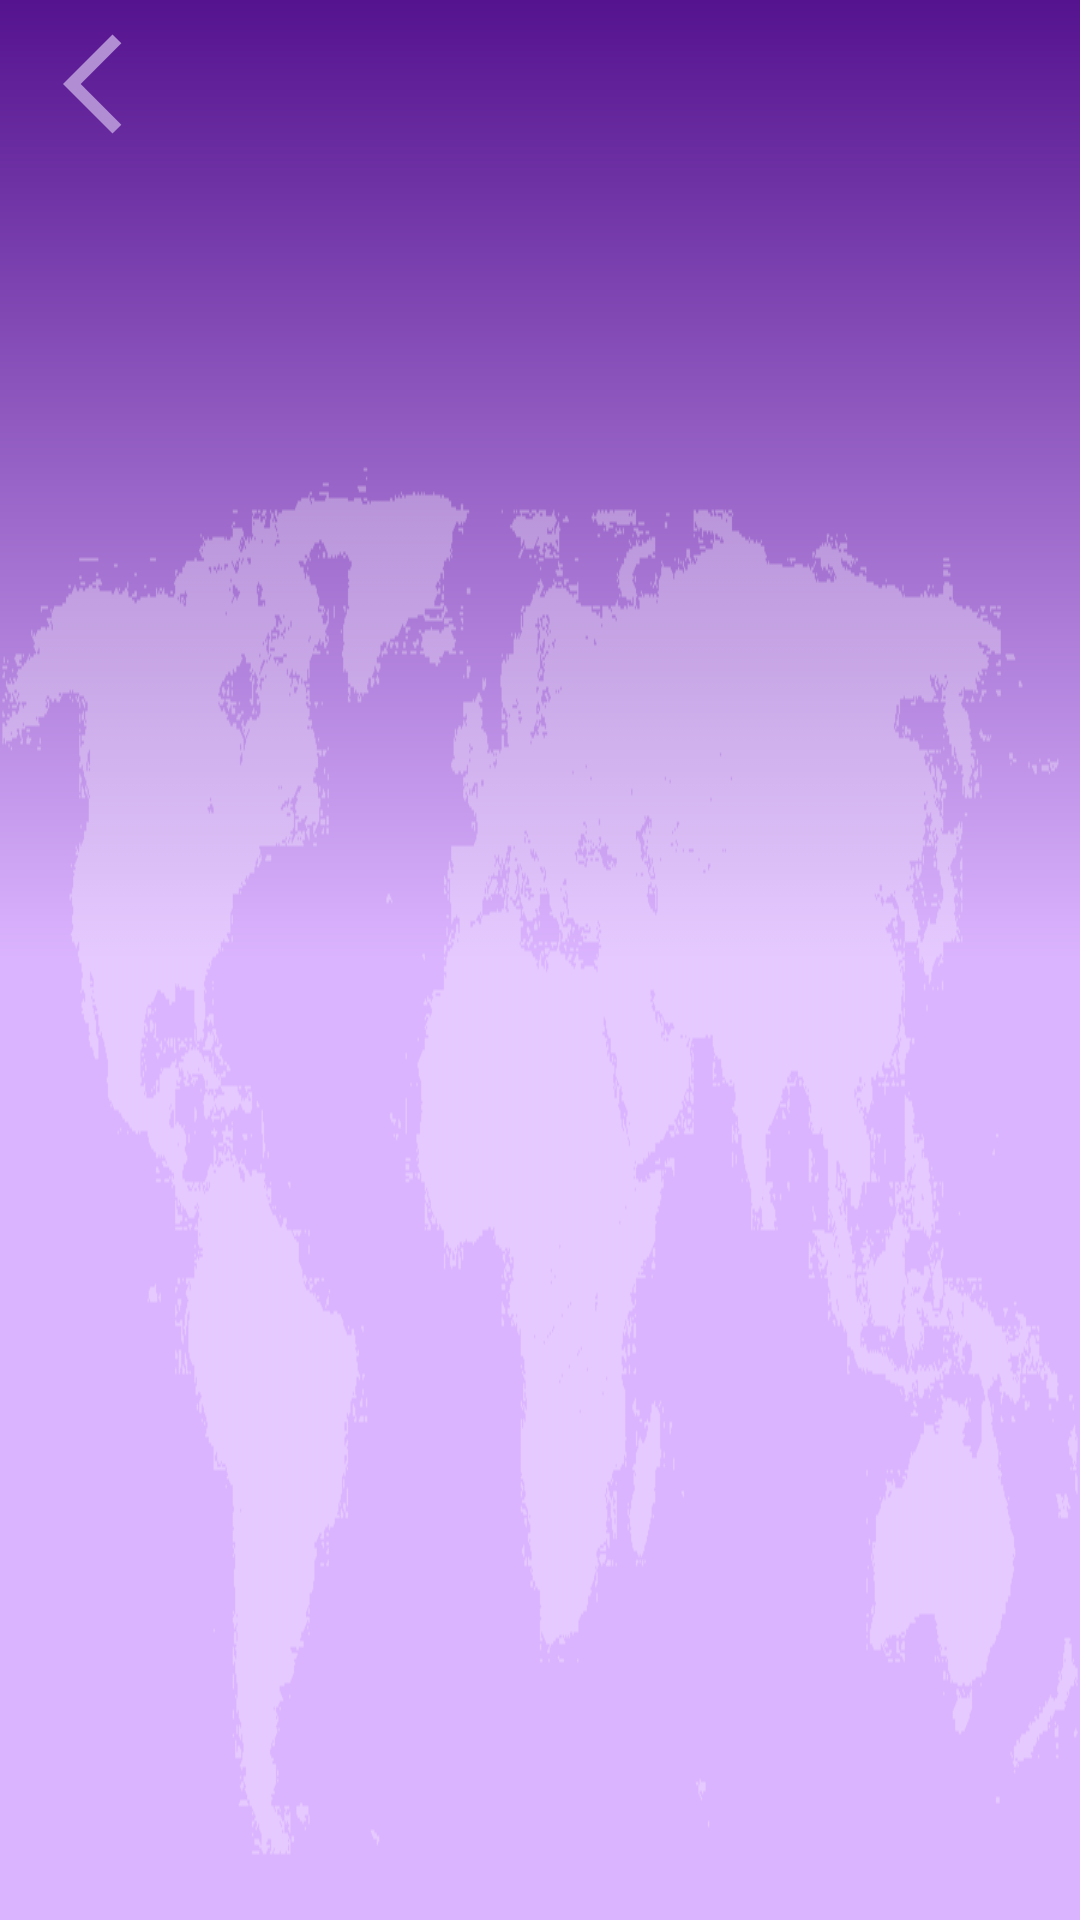

Icons on this 1080w x 1920h Android screen, each with the point to tap as (x=x, y=y):
back: (x=123, y=71)
